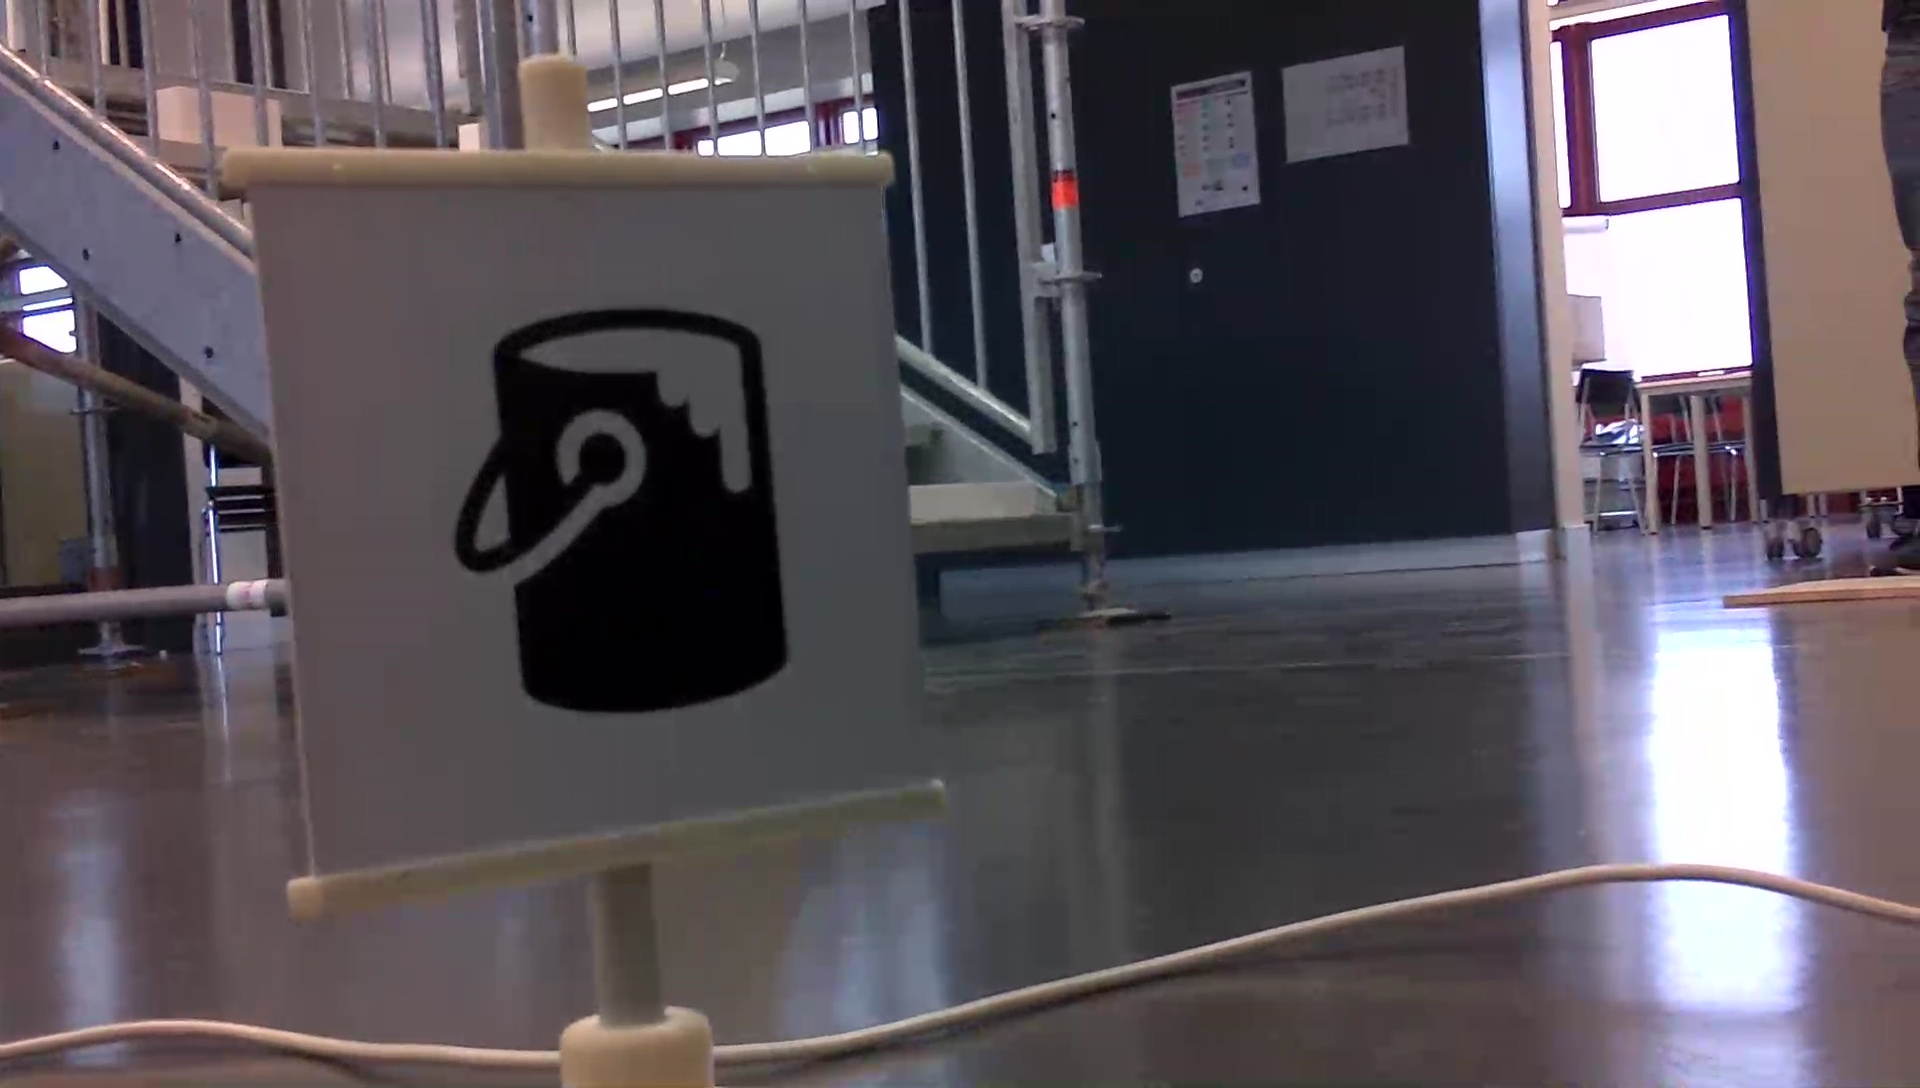brick: (910, 485, 1030, 516)
bucket: (439, 291, 806, 728)
